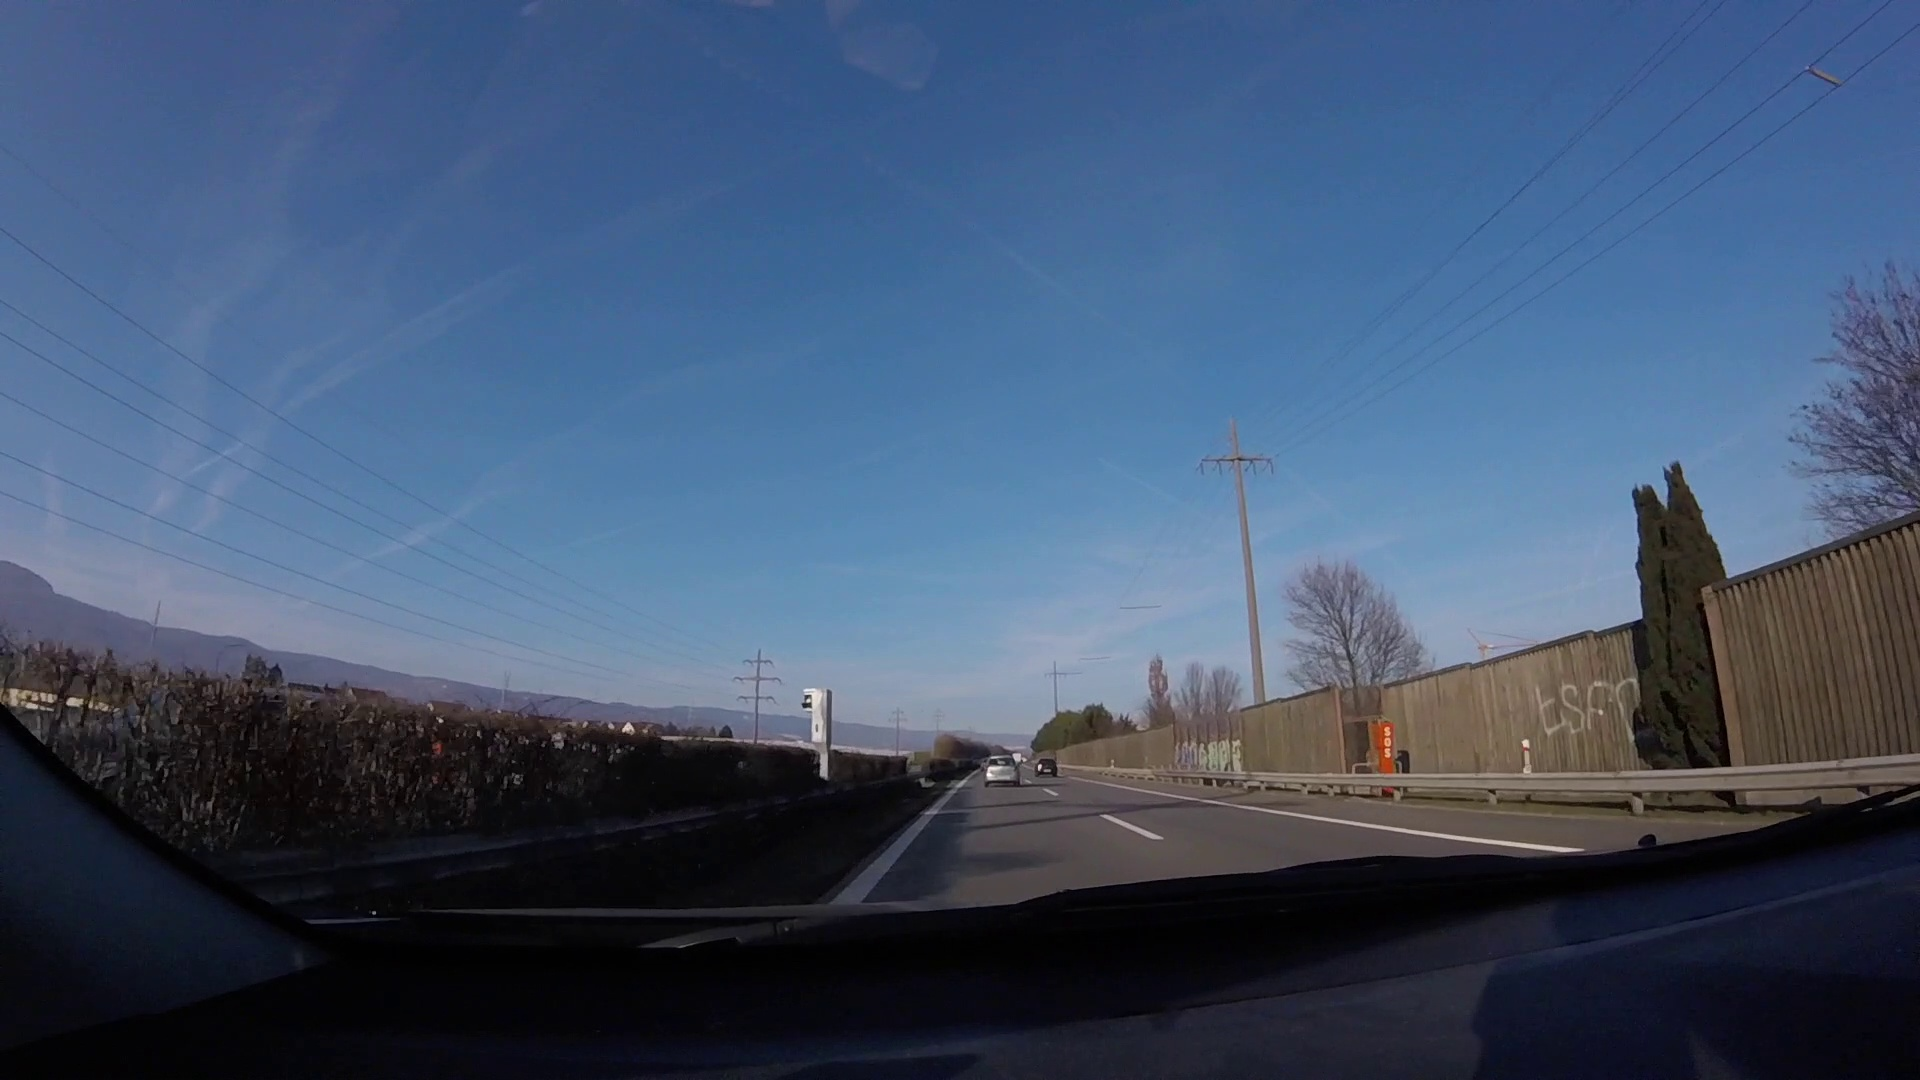radar: (798, 687, 836, 783)
